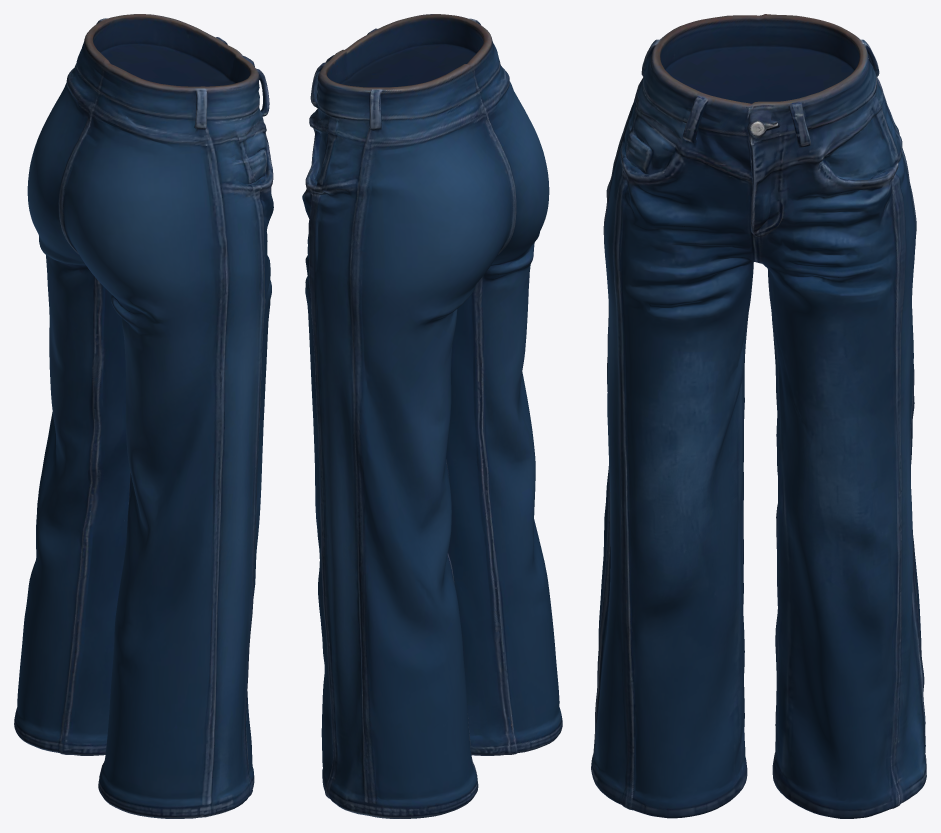
The model's file is holgado.glb.
3 renders of one model, left to right at view 1: azimuth 30°, elevation 25°; view 2: azimuth 150°, elevation 25°; view 3: azimuth 270°, elevation 25°, orthographic. The views are drawn at different scales.
Visible parts, largest first — view 1: tripo_node_fa3d8382-90fd-4f7e-b3ef-6366f4196dce; view 2: tripo_node_fa3d8382-90fd-4f7e-b3ef-6366f4196dce; view 3: tripo_node_fa3d8382-90fd-4f7e-b3ef-6366f4196dce.
Boxes of the visible parts, x1,y1,x2,y2 form: tripo_node_fa3d8382-90fd-4f7e-b3ef-6366f4196dce: (14, 14, 273, 818); tripo_node_fa3d8382-90fd-4f7e-b3ef-6366f4196dce: (302, 14, 562, 818); tripo_node_fa3d8382-90fd-4f7e-b3ef-6366f4196dce: (591, 14, 926, 818).
Size of the model in its own units: 0.2825 by 1 by 0.4027.
1 material, 1 textured.
